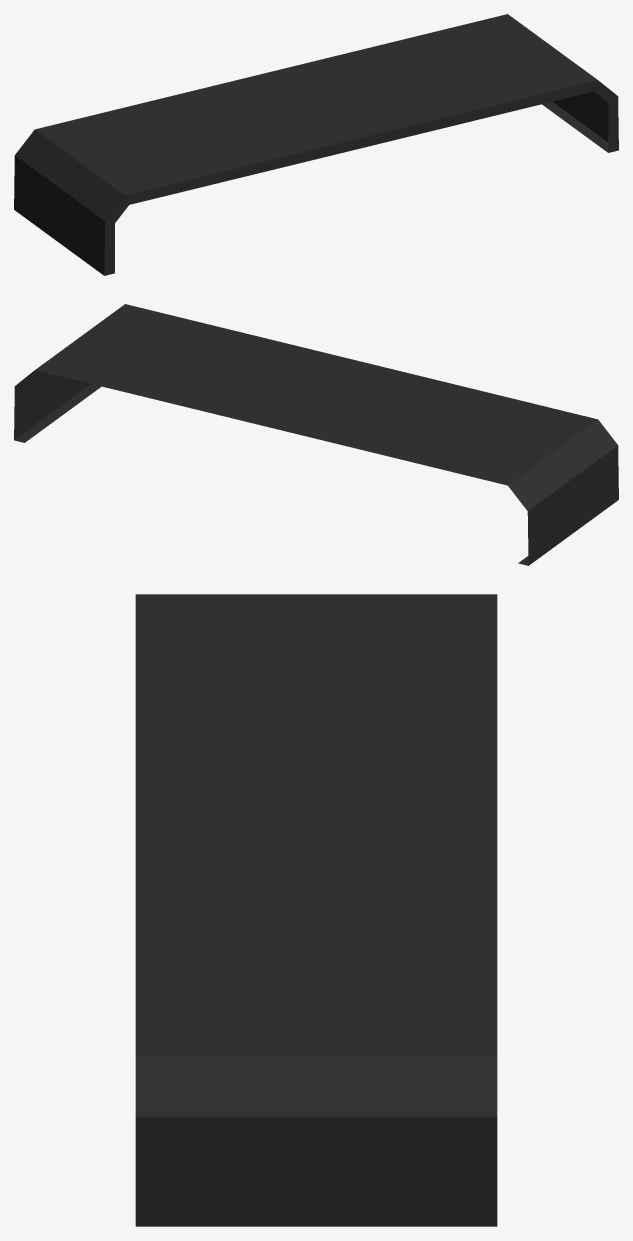
The model's file is Holo_tex_1.011.fbx.
3 renders of one model, top to bottom at view 1: azimuth 30°, elevation 25°; view 2: azimuth 150°, elevation 25°; view 3: azimuth 270°, elevation 25°, orthographic. The views are drawn at different scales.
Parts seen in each view (by area): view 1: Holo_tex_1.011; view 2: Holo_tex_1.011; view 3: Holo_tex_1.011.
Part boxes in pixels (left/top/right/bottom): Holo_tex_1.011: left=14, top=14, right=618, bottom=275; Holo_tex_1.011: left=14, top=304, right=618, bottom=565; Holo_tex_1.011: left=135, top=594, right=497, bottom=1226.
Bounding box in the file's own units: 89.27 × 27.17 × 12.48.
